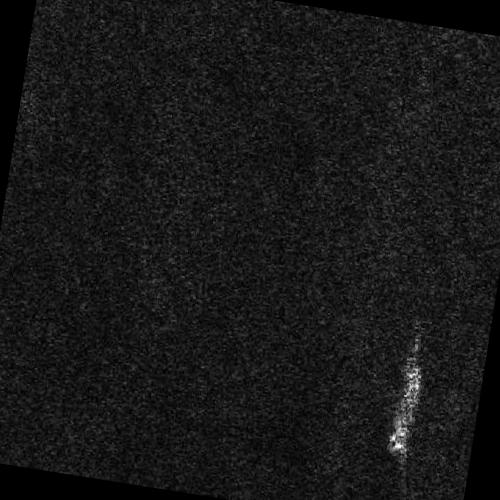ship: (386, 363, 423, 458)
